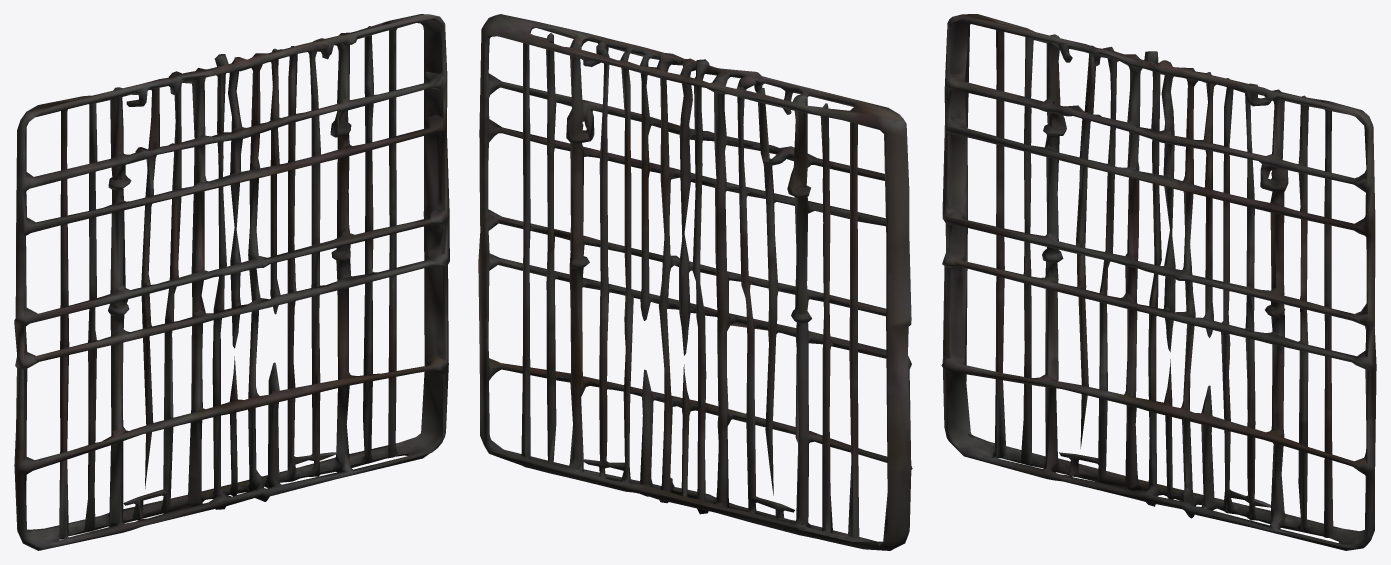
The model's file is ornate-iron-portcullis-v001.glb.
3 views of the same model, side by side, from view 1: azimuth 30°, elevation 25°; view 2: azimuth 150°, elevation 25°; view 3: azimuth 330°, elevation 25° (orthographic).
Parts seen in each view (by area): view 1: ornate-iron-portcullis; view 2: ornate-iron-portcullis; view 3: ornate-iron-portcullis.
Part boxes in pixels (x1,y1,x2,y2): ornate-iron-portcullis: (14, 14, 449, 550); ornate-iron-portcullis: (478, 14, 912, 550); ornate-iron-portcullis: (941, 14, 1376, 550).
Bounding box in the file's own units: 2.53 × 2.54 × 0.1743.
Materials: 1 (1 with a texture image).
